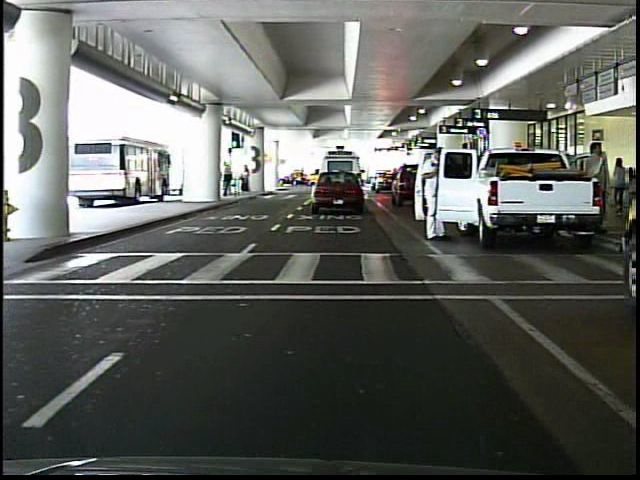person: (418, 141, 455, 246), (579, 138, 611, 228), (609, 154, 630, 216), (222, 159, 235, 198), (240, 163, 255, 195)
